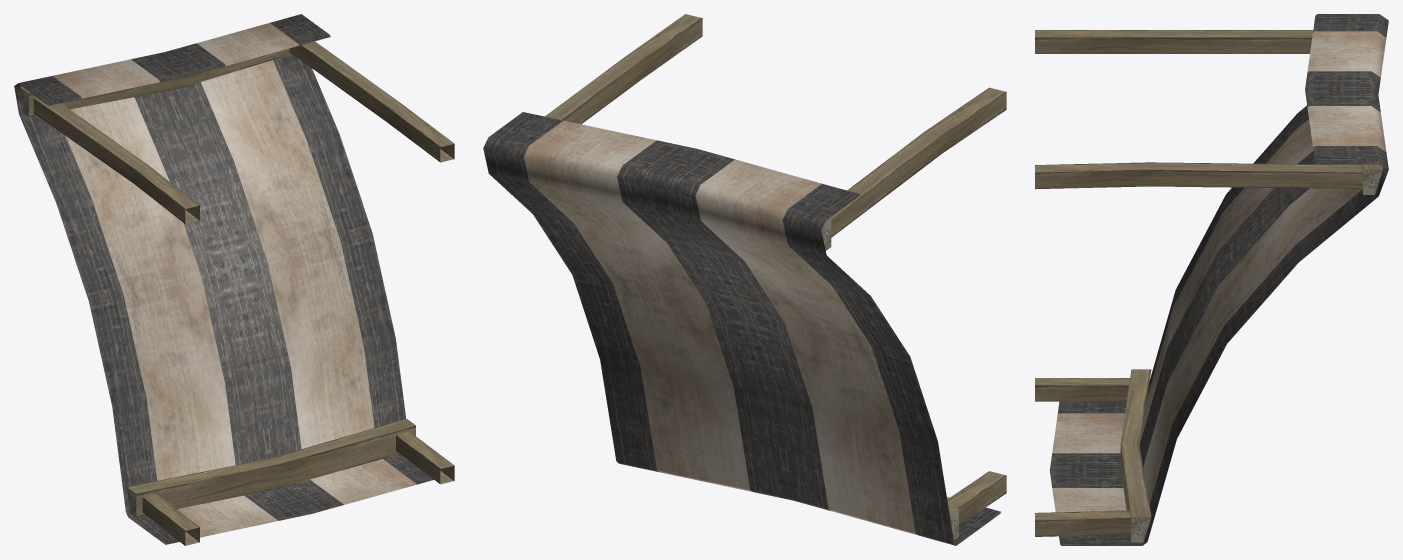
Rendered from Tent_Beach_A.fbx.
The picture shows the model from 3 angles, left to right: view 1: azimuth 30°, elevation 25°; view 2: azimuth 150°, elevation 25°; view 3: azimuth 270°, elevation 25°; orthographic projection. The views are drawn at different scales.
Visible parts, largest first — view 1: Tent_Beach_A; view 2: Tent_Beach_A; view 3: Tent_Beach_A.
Part boxes in pixels (box(x1,y1,x2,y2)): Tent_Beach_A: box(14, 14, 454, 545); Tent_Beach_A: box(483, 14, 1006, 545); Tent_Beach_A: box(1035, 14, 1388, 545).
Size of the model in its own units: 3.8 by 4.54 by 3.81.
